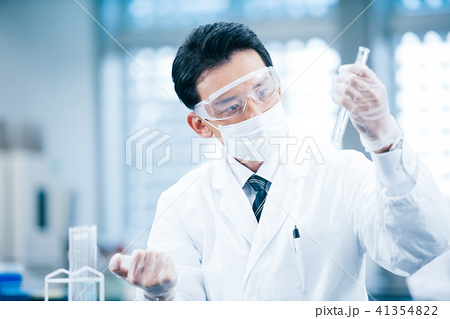mask: (211, 105, 303, 165)
